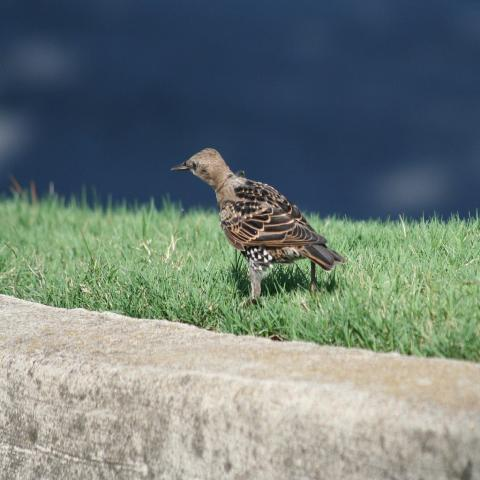bird: (169, 144, 347, 304)
